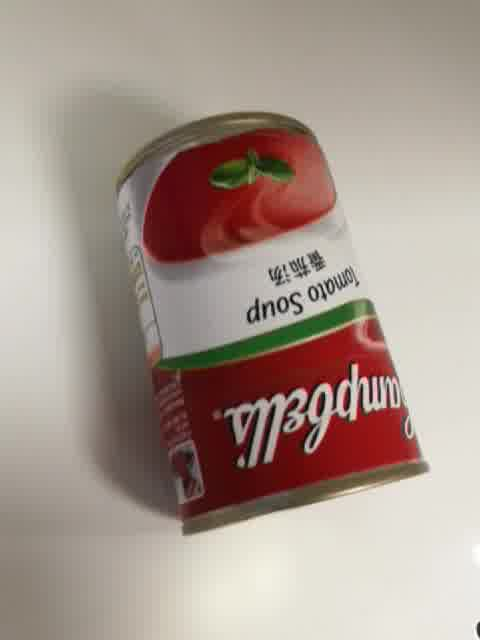tomatosoup: (112, 108, 432, 541)
